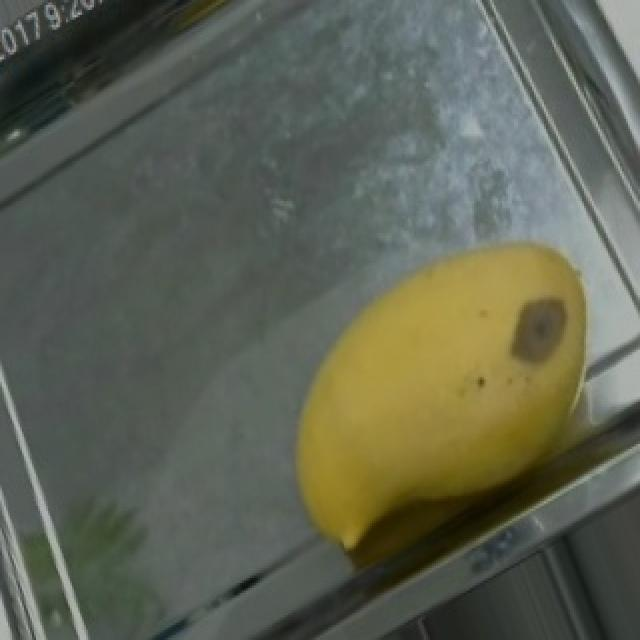fruit: (224, 176, 640, 576)
